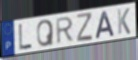A: (93, 10, 116, 40)
K: (116, 7, 132, 36)
L: (18, 23, 33, 50)
Q: (36, 19, 55, 48)
R: (56, 15, 75, 46)
Z: (76, 11, 94, 43)
